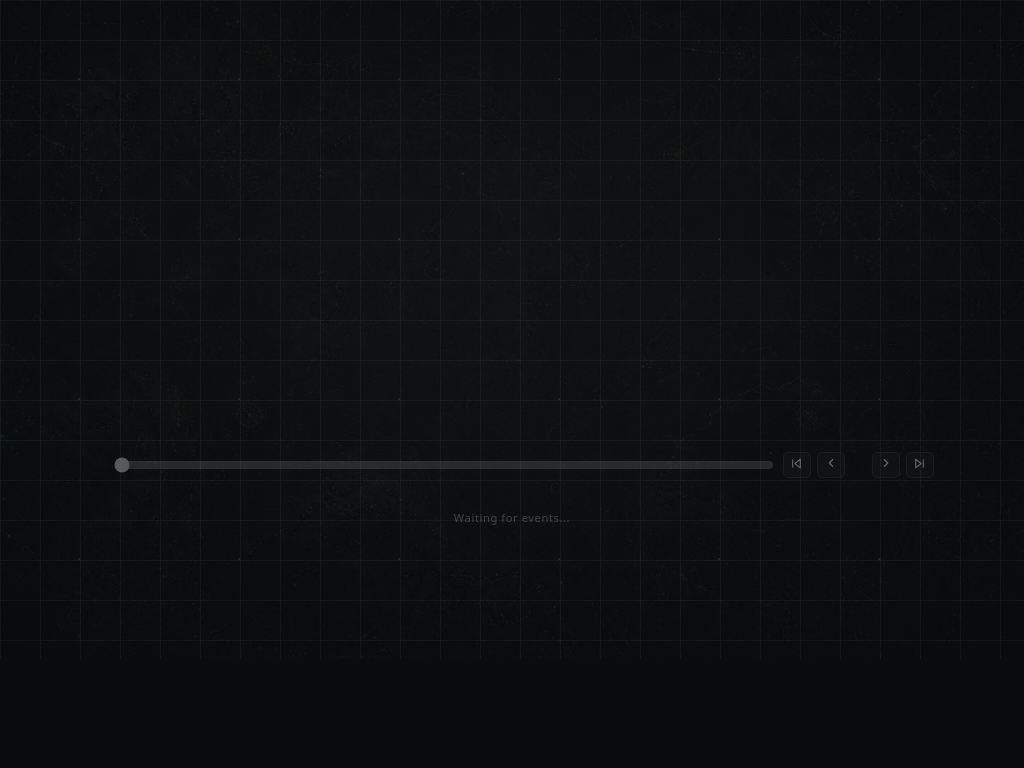
Test case: RunPanel — human review › submits an approved decision and closes the panel
This screenshot has width=1024, height=768.
Click the button "Approve A" at (802, 308), box [756, 293, 847, 323]
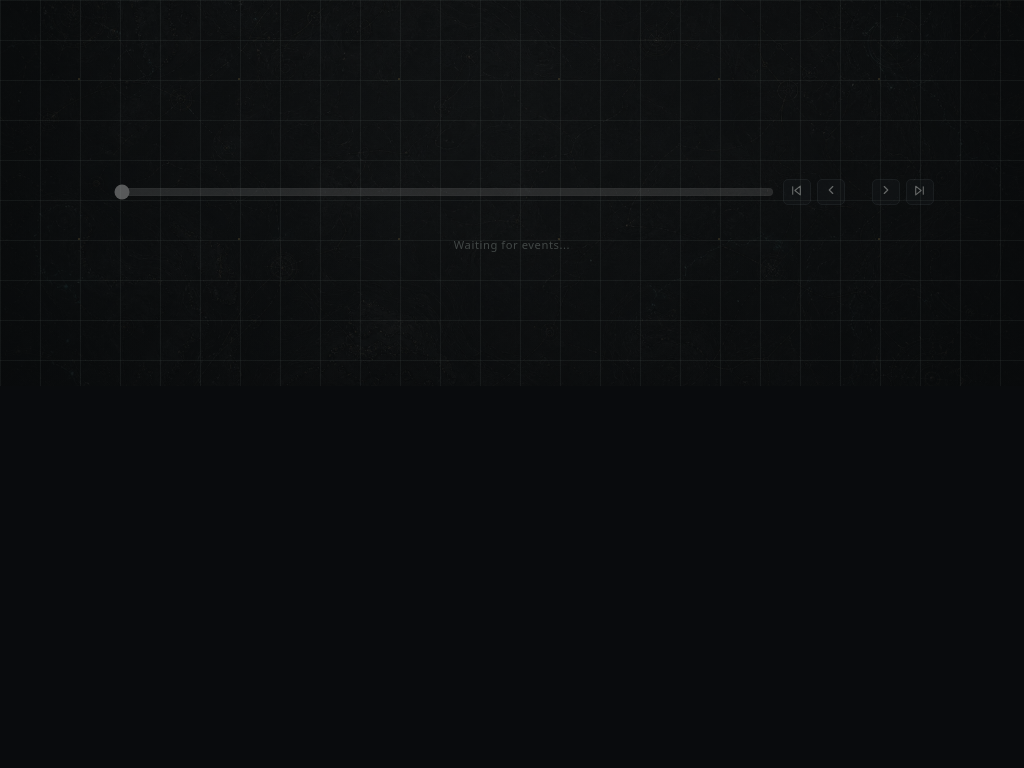
Expected: the text "review the plan" is gone
